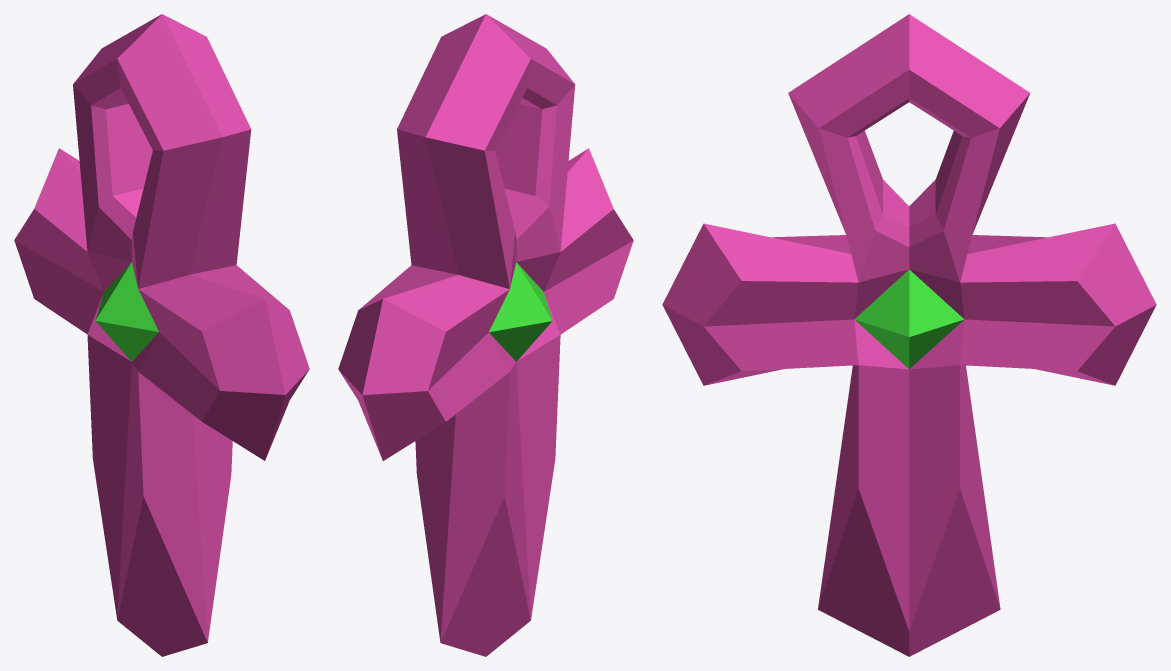
Rendered from ankh.glb.
The picture shows the model from 3 angles, left to right: view 1: azimuth 30°, elevation 25°; view 2: azimuth 150°, elevation 25°; view 3: azimuth 270°, elevation 25°; orthographic projection.
Visible parts, largest first — view 1: Cube; view 2: Cube; view 3: Cube.
Part boxes in pixels (box(x1,y1,x2,y2)): Cube: box(14, 14, 309, 656); Cube: box(338, 14, 633, 656); Cube: box(662, 14, 1156, 656).
Bounding box in the file's own units: 0.4032 × 1.86 × 1.3.
